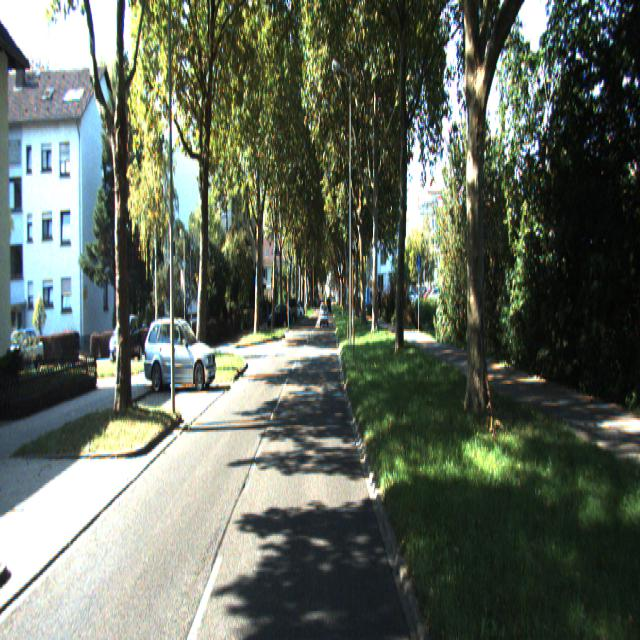Car: (142, 318, 220, 394)
